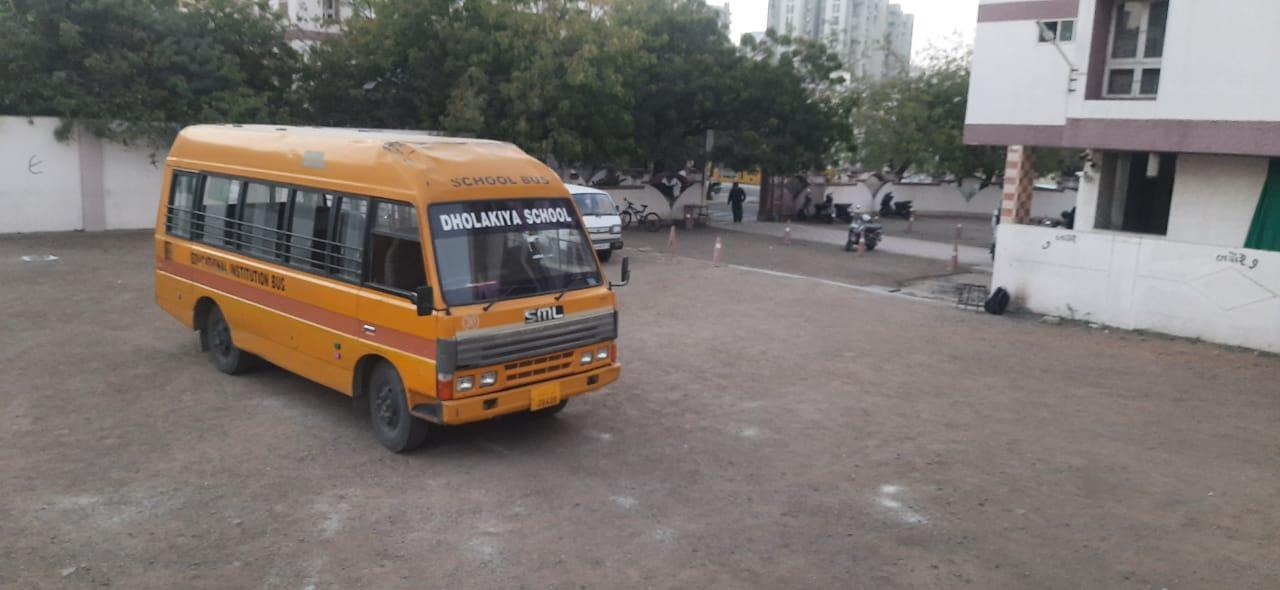Bus: (138, 107, 647, 465)
